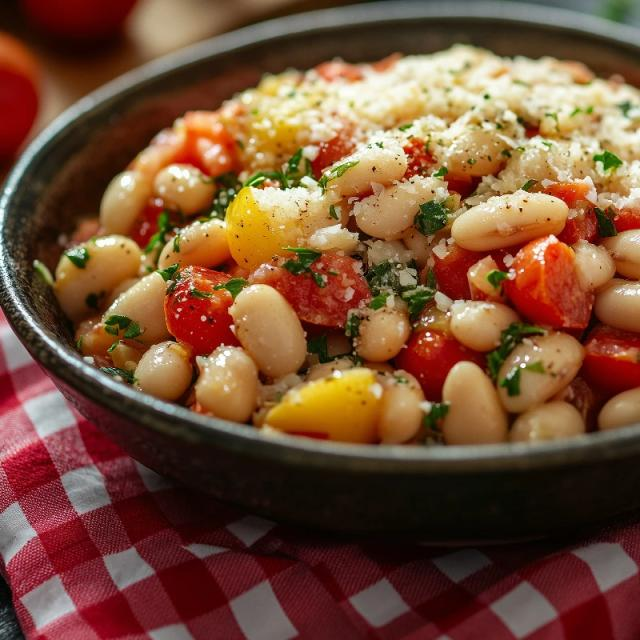garbanzos: (56, 44, 638, 455)
